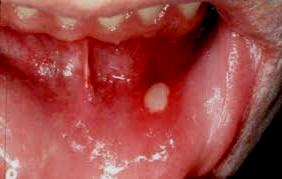Ulcer: (123, 72, 179, 124)
